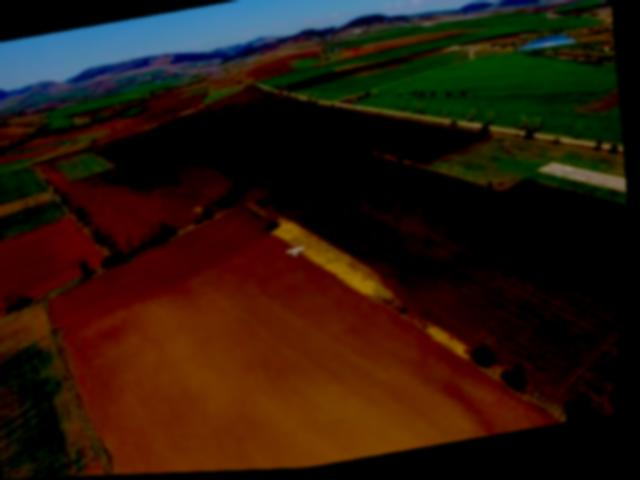uav: (284, 240, 315, 269)
